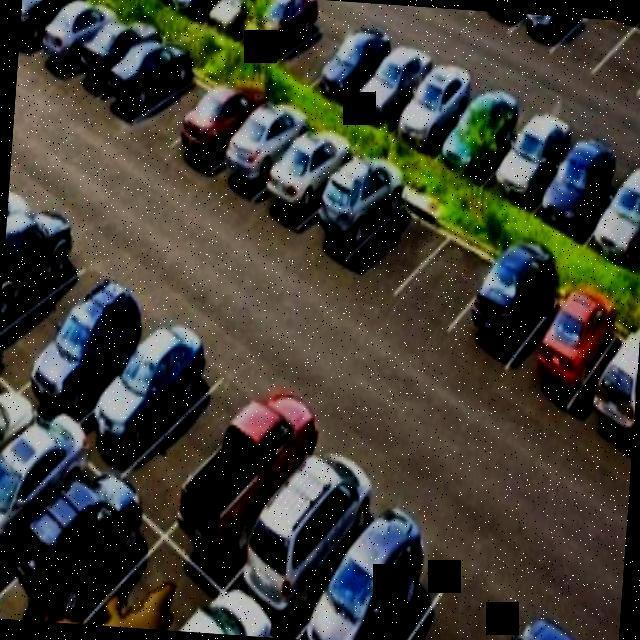space-empty: (135, 363, 255, 530), (0, 243, 121, 398), (408, 227, 494, 333), (353, 200, 438, 302), (131, 56, 217, 151), (278, 0, 352, 91), (554, 16, 621, 85), (605, 22, 640, 107)
space-occupied: (235, 443, 378, 633), (196, 391, 321, 585), (7, 481, 140, 624), (97, 303, 206, 475), (314, 509, 441, 640), (46, 279, 153, 424), (0, 404, 86, 580), (67, 532, 209, 633), (463, 238, 556, 366), (303, 148, 401, 267), (0, 198, 79, 342), (521, 290, 610, 412), (214, 95, 307, 208), (252, 134, 352, 238), (101, 27, 188, 127), (177, 73, 255, 182), (396, 45, 469, 161), (361, 32, 437, 135), (542, 126, 611, 238), (452, 79, 522, 188), (585, 330, 640, 466), (499, 107, 571, 204), (69, 10, 149, 96), (323, 16, 387, 118), (37, 0, 113, 85), (243, 0, 317, 69), (601, 168, 640, 286), (17, 0, 85, 65), (204, 0, 270, 38)
